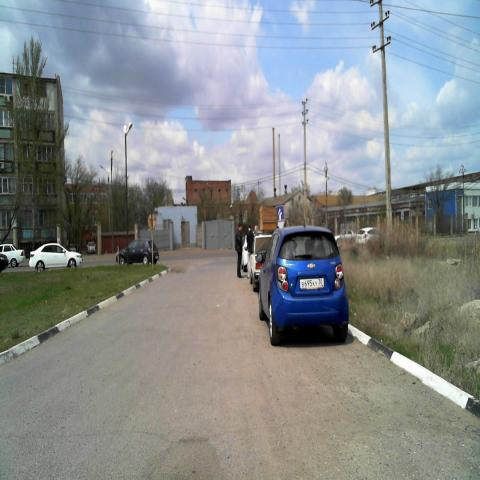5_6: (276, 205, 285, 220)
